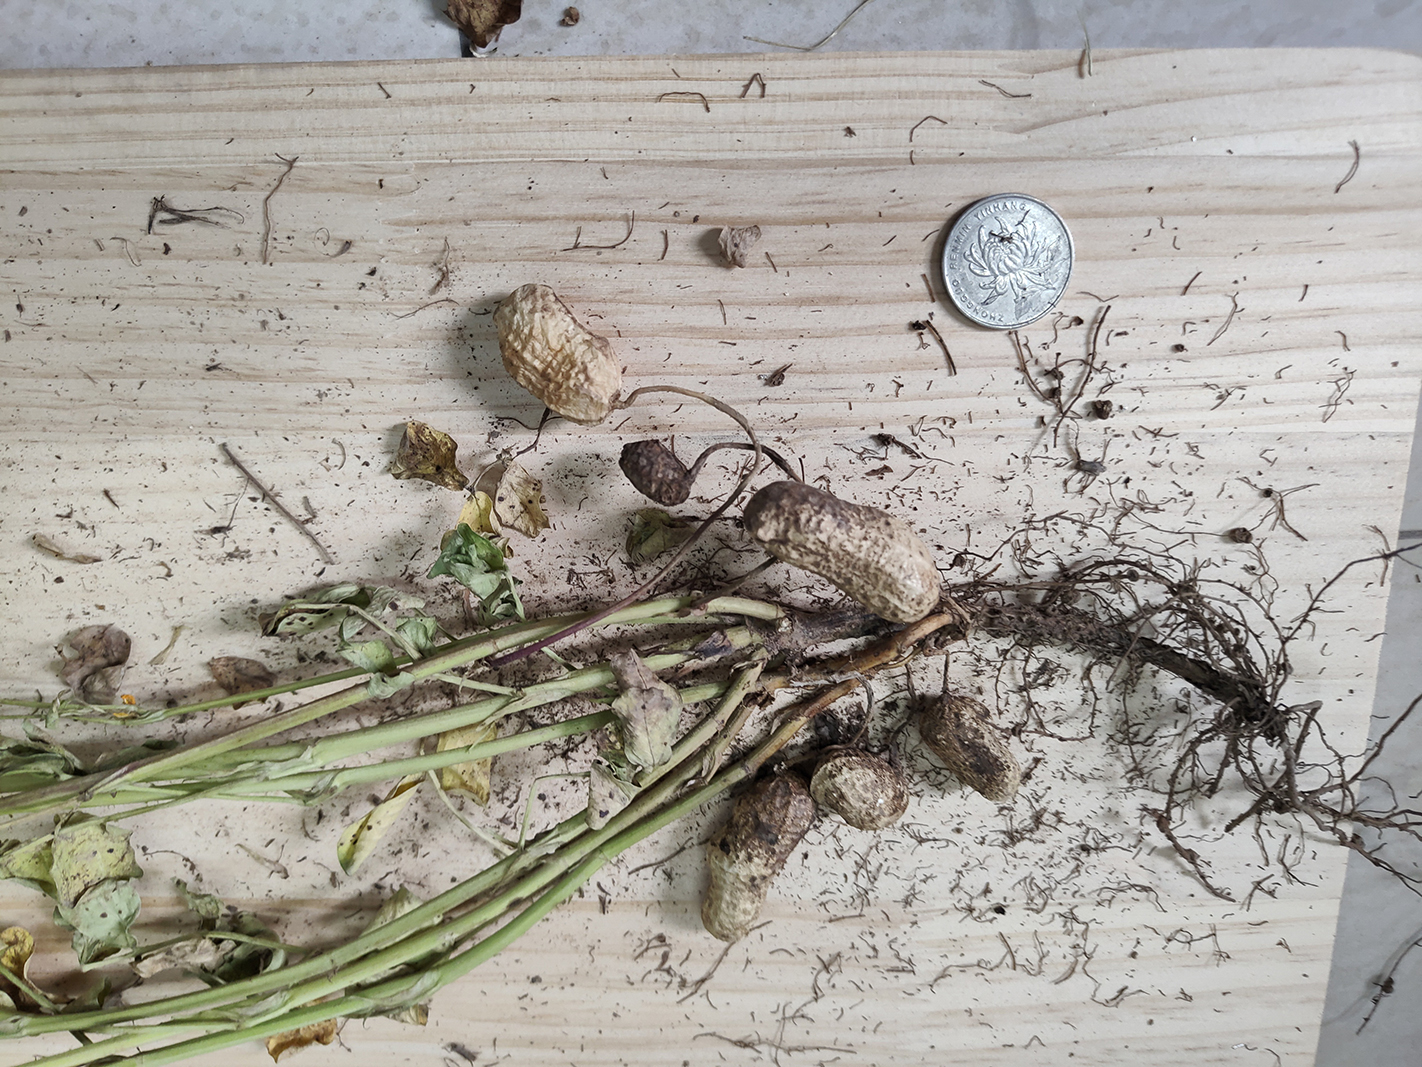h: (745, 483, 941, 627), (701, 770, 814, 939), (493, 284, 622, 423), (816, 755, 909, 828)
l: (923, 693, 1020, 805), (619, 438, 693, 507)
